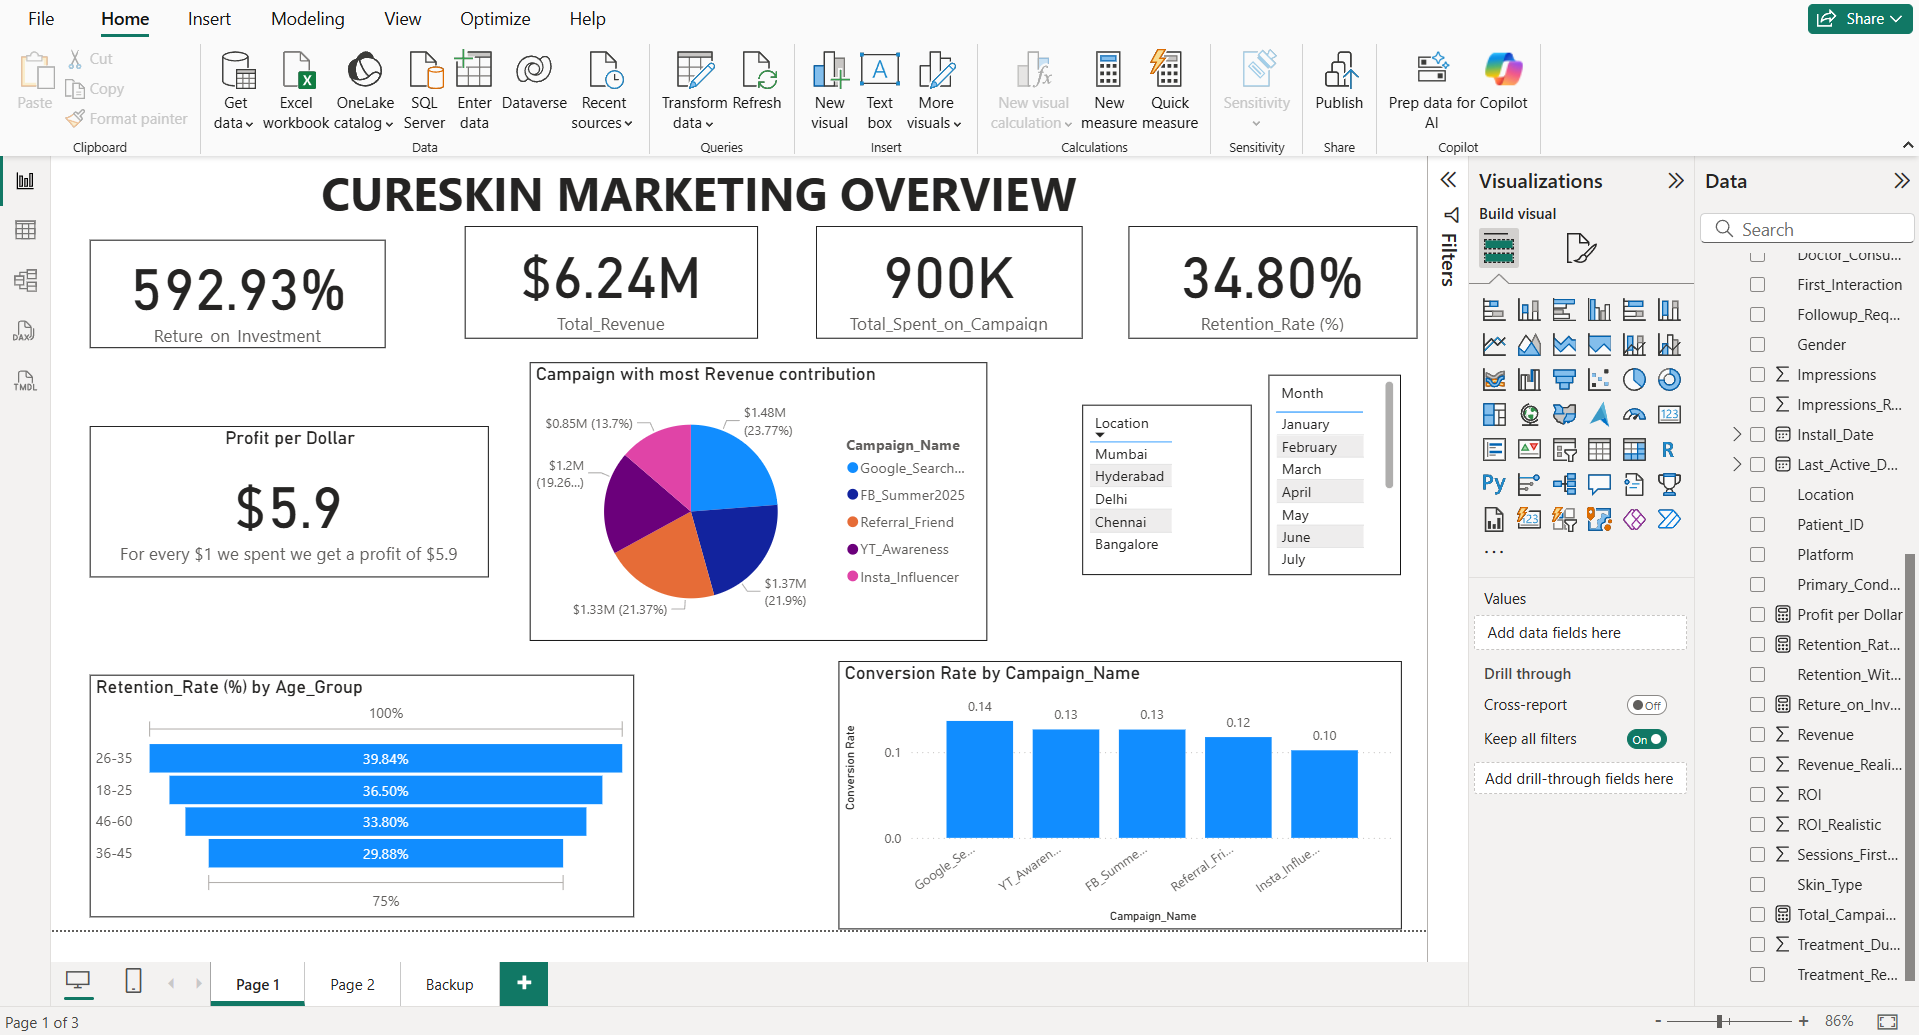

Layout of this report page (visuals, bound fields, positions):
{"tool":"powerbi","page":{"name":"Page 1","canvas":[1280,720],"ordinal":0},"visuals":[{"type":"textbox","box":[246.1,0,824.7,118.2],"z":0},{"type":"card","fields":{"Values":["Sum(Customer.Revenue_Realistic)"]},"box":[384.9,64.6,272.9,104.8],"z":1000},{"type":"card","fields":{"Values":["Customer.Reture_on_Investment"]},"box":[36,77.9,275.6,101.2],"z":2000},{"type":"card","fields":{"Values":["Customer.Total_Campaign_Spent"]},"box":[711.7,65.6,247.9,104.9],"z":3000},{"type":"card","fields":{"Values":["Customer.Retention_Rate (%)"]},"box":[1002.3,65.1,268.6,104.7],"z":4000},{"type":"card","title":"Profit per Dollar","fields":{"Values":["Customer.Profit per Dollar"]},"box":[36,251.2,370.9,140.7],"z":5000},{"type":"pieChart","title":"Campaign with most Revenue contribution ","fields":{"Category":["Customer.Campaign_Name"],"Y":["Sum(Customer.Revenue_Realistic)"]},"box":[445.4,191.9,425.6,259.3],"z":6000},{"type":"clusteredColumnChart","fields":{"Category":["Customer.Campaign_Name"],"Y":["Customer.Conversion Rate"]},"box":[732.1,470.2,523.8,249.7],"z":7000},{"type":"funnel","fields":{"Category":["Customer.Age_Group"],"Y":["Customer.Retention_Rate (%)"]},"box":[36.5,482.4,506.7,225.4],"z":8000},{"type":"tableEx","fields":{"Values":["Customer.Location"]},"box":[959.6,231.5,157.3,158.6],"z":9000},{"type":"tableEx","fields":{"Values":["Customer.Install_Date.Variation.Date Hierarchy.Month"]},"box":[1147.7,203.5,123.3,186],"z":10000}]}

Visuals, with their boxes on the page's 1280x720 design canvas (x1, y1, x2, y2). These are canvas units, not pixel positions in the 1919x1035 screenshot, which may show the page scaled, cropped or inside an application window:
textbox: 246 0 1071 118
card - Sum(Customer.Revenue_Realistic): 385 65 658 169
card - Customer.Reture_on_Investment: 36 78 312 179
card - Customer.Total_Campaign_Spent: 712 66 960 170
card - Customer.Retention_Rate (%): 1002 65 1271 170
"Profit per Dollar" card: 36 251 407 392
"Campaign with most Revenue contribution " pieChart: 445 192 871 451
clusteredColumnChart - Customer.Campaign_Name x Customer.Conversion Rate: 732 470 1256 720
funnel - Customer.Age_Group x Customer.Retention_Rate (%): 36 482 543 708
tableEx - Customer.Location: 960 232 1117 390
tableEx - Customer.Install_Date.Variation.Date Hierarchy.Month: 1148 204 1271 390
